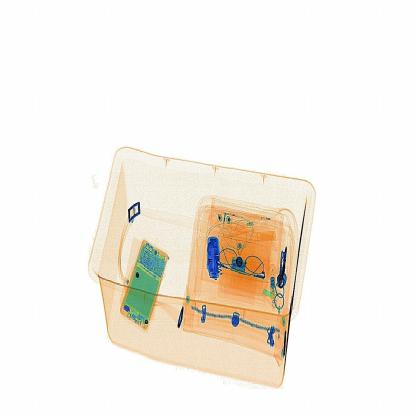scissors: (201, 222, 228, 283)
